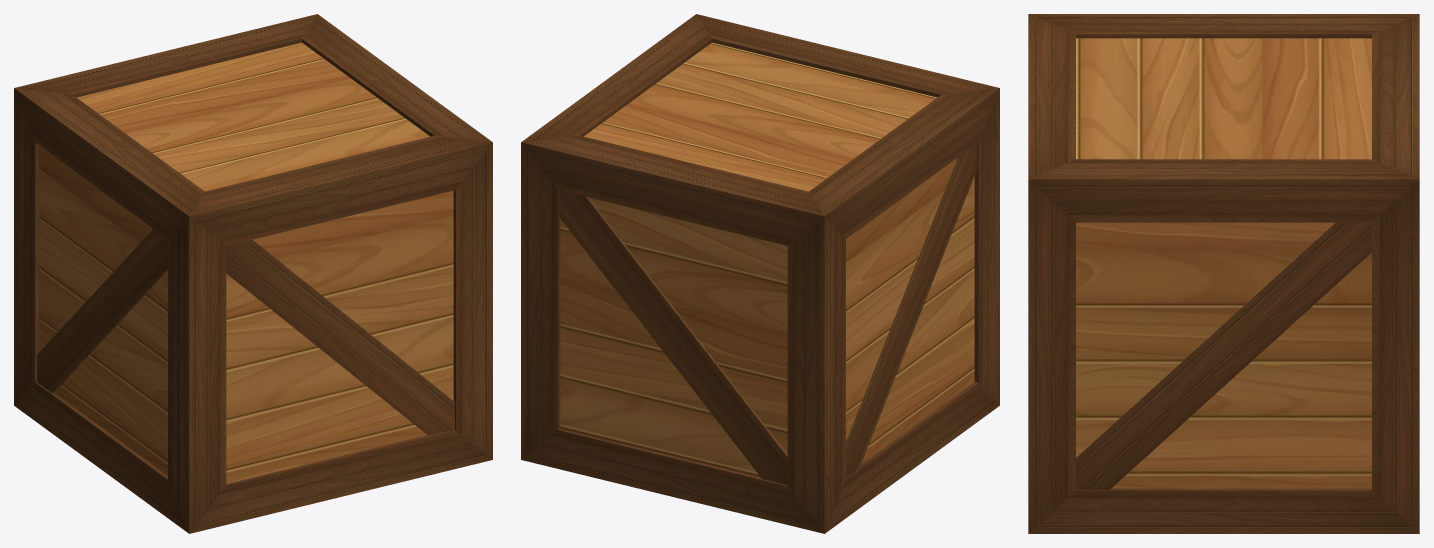
File: Crate2.fbx
3 renders of one model, left to right at view 1: azimuth 30°, elevation 25°; view 2: azimuth 150°, elevation 25°; view 3: azimuth 270°, elevation 25°, orthographic. The views are drawn at different scales.
Visible parts, largest first — view 1: Crate2; view 2: Crate2; view 3: Crate2.
Boxes of the visible parts, bbox=[...] form: Crate2: bbox=[14, 14, 492, 533]; Crate2: bbox=[521, 14, 999, 533]; Crate2: bbox=[1028, 14, 1419, 533].
Size of the model in its own units: 2.05 by 2.05 by 2.05.
